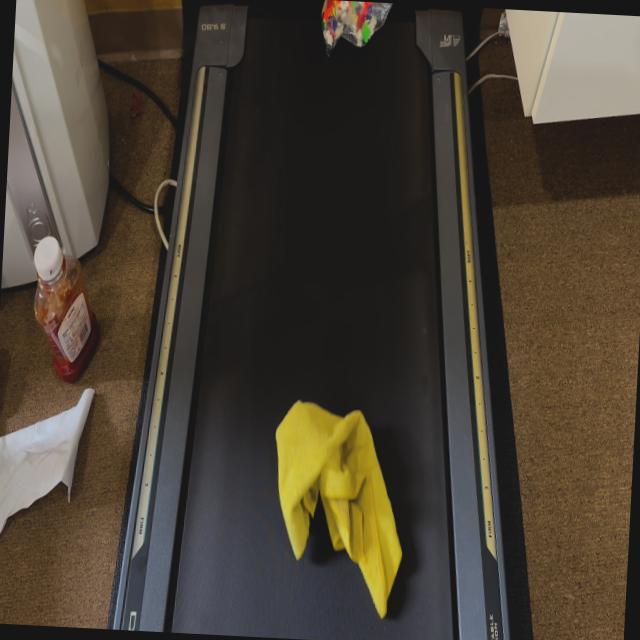Trash: (260, 396, 412, 628), (314, 3, 394, 67)
